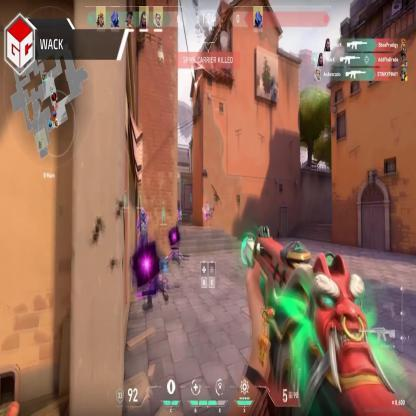enemy: (136, 209, 148, 263), (204, 201, 212, 224), (176, 204, 183, 224)
enemy_head: (141, 208, 145, 217), (176, 206, 180, 212), (206, 202, 209, 206)
